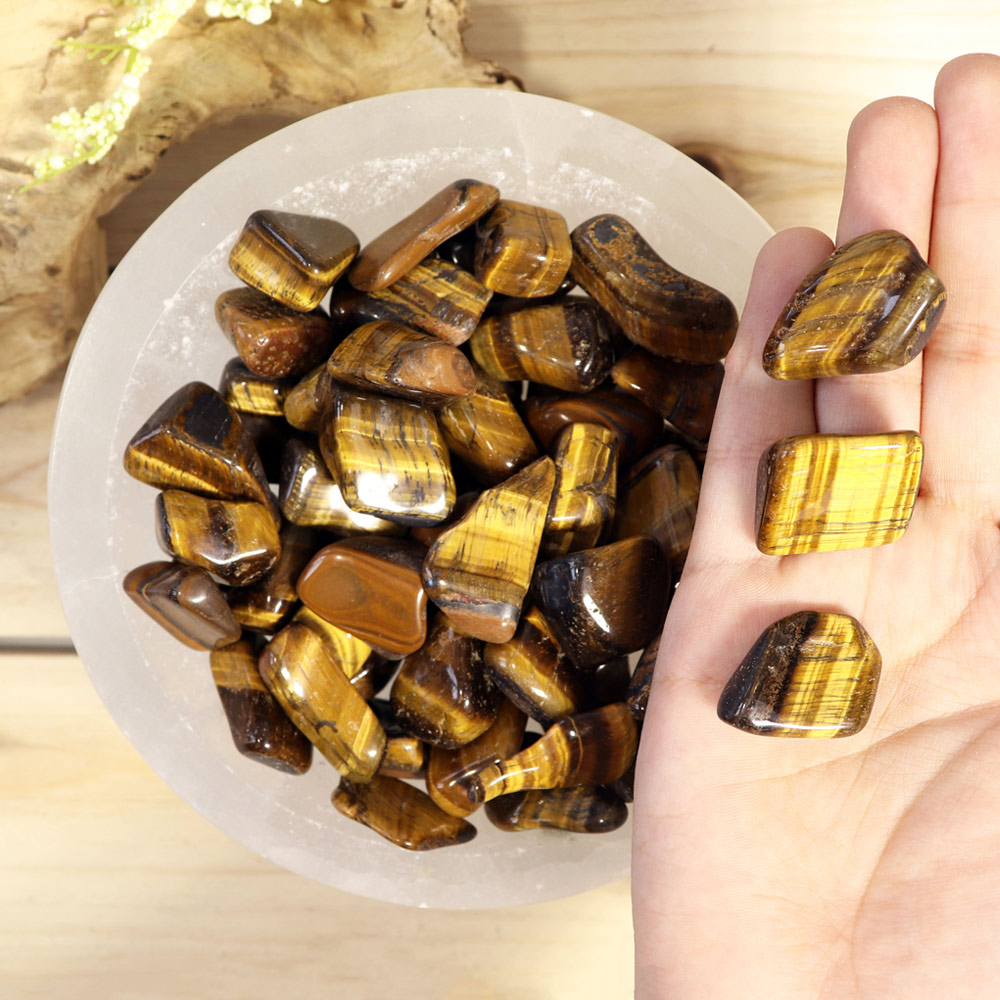Tigers_Eye: (234, 228, 627, 750), (762, 217, 949, 385), (750, 427, 928, 557), (715, 607, 885, 743)
